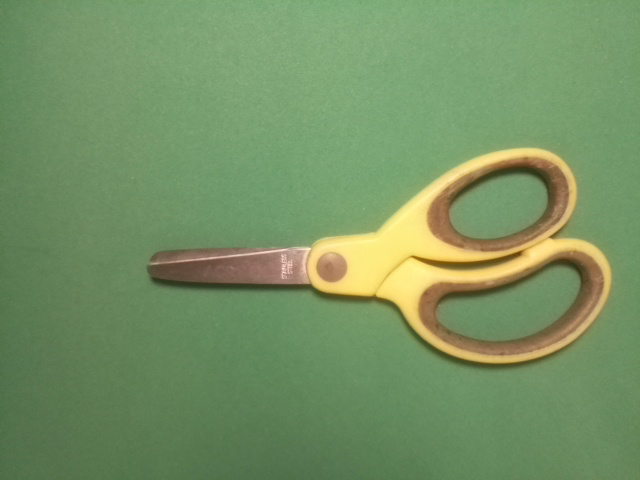Tesoura: (143, 146, 615, 394)
